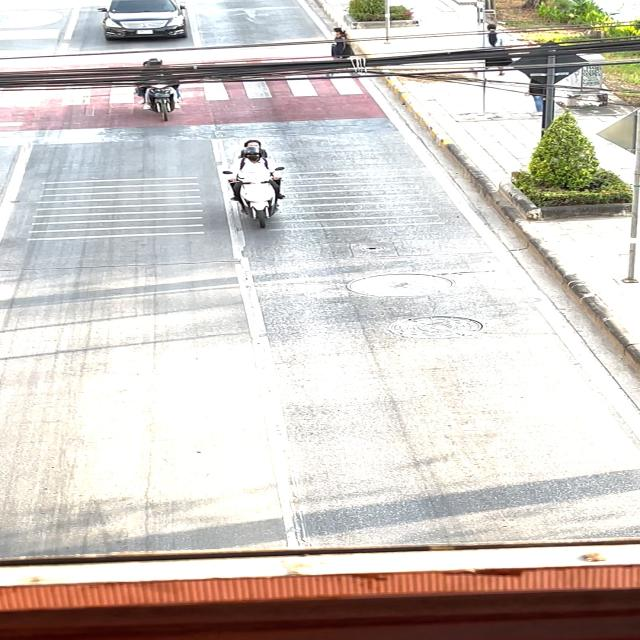car: (80, 0, 223, 47)
